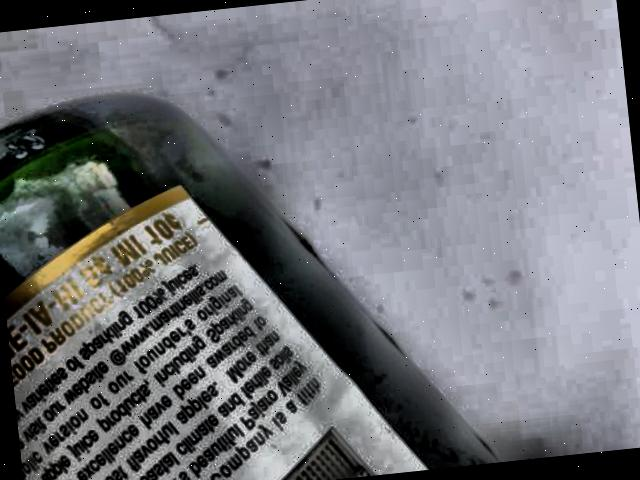Bottles: (0, 44, 531, 480)
